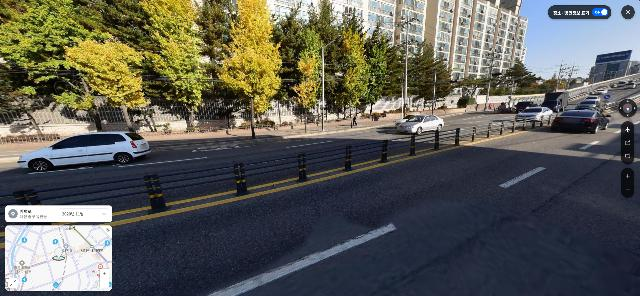ginkgo: (215, 0, 283, 140), (65, 38, 143, 132), (292, 52, 321, 133)
other: (1, 0, 121, 131), (127, 0, 209, 130), (190, 1, 244, 107), (305, 0, 341, 115), (328, 1, 362, 116), (271, 1, 305, 113), (407, 35, 454, 109), (337, 24, 369, 127), (292, 25, 321, 133), (382, 32, 413, 109), (363, 24, 389, 115), (501, 59, 541, 99), (454, 76, 484, 102)
